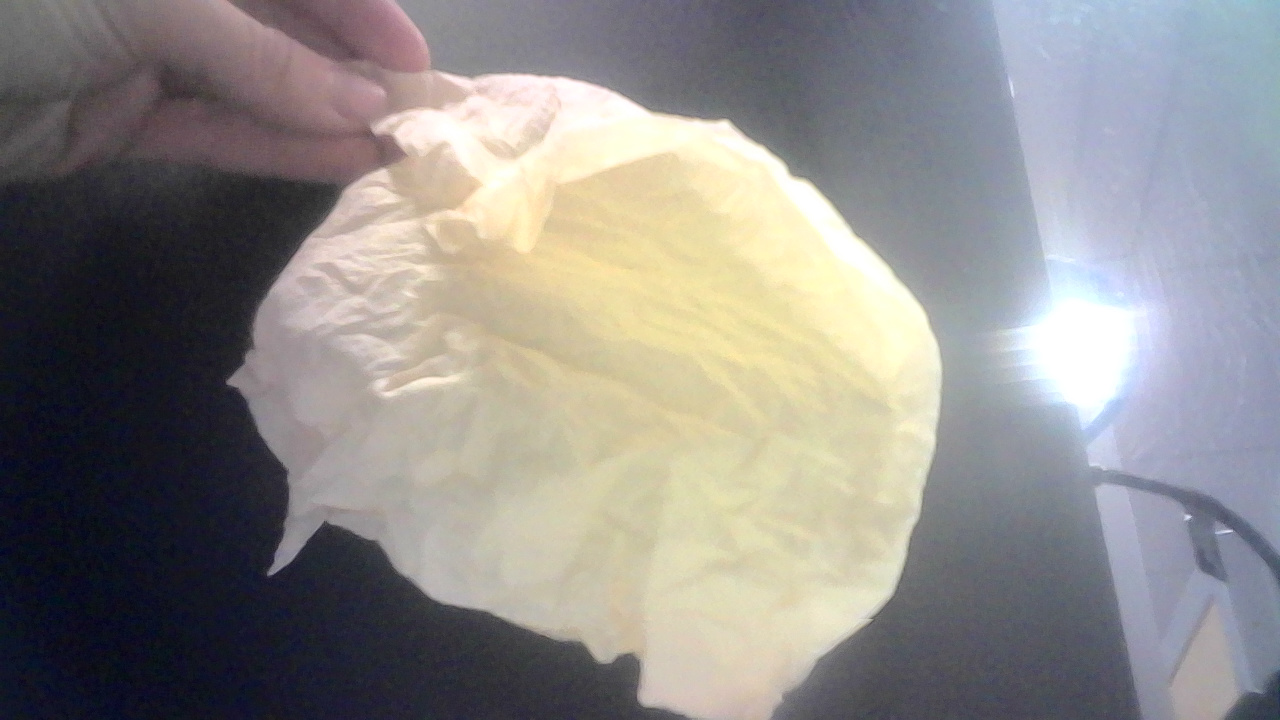Paper_Recycling: (254, 83, 940, 720)
